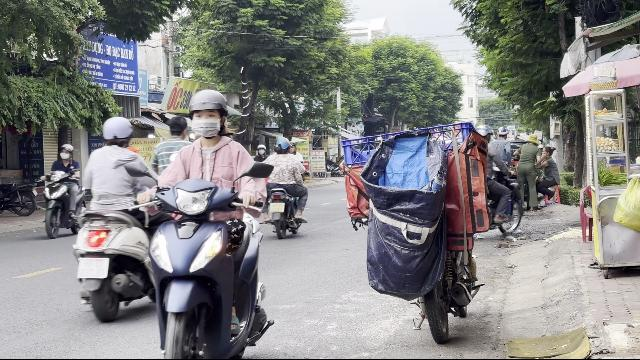helmet: (186, 87, 230, 137), (101, 115, 133, 148), (58, 143, 74, 161), (274, 137, 290, 153)
licenseplate: (77, 258, 109, 278), (270, 204, 284, 212)
motorcyclist: (139, 88, 275, 358), (69, 114, 159, 322), (262, 135, 308, 237), (40, 142, 80, 238)
nohelmet: (167, 114, 190, 138)
